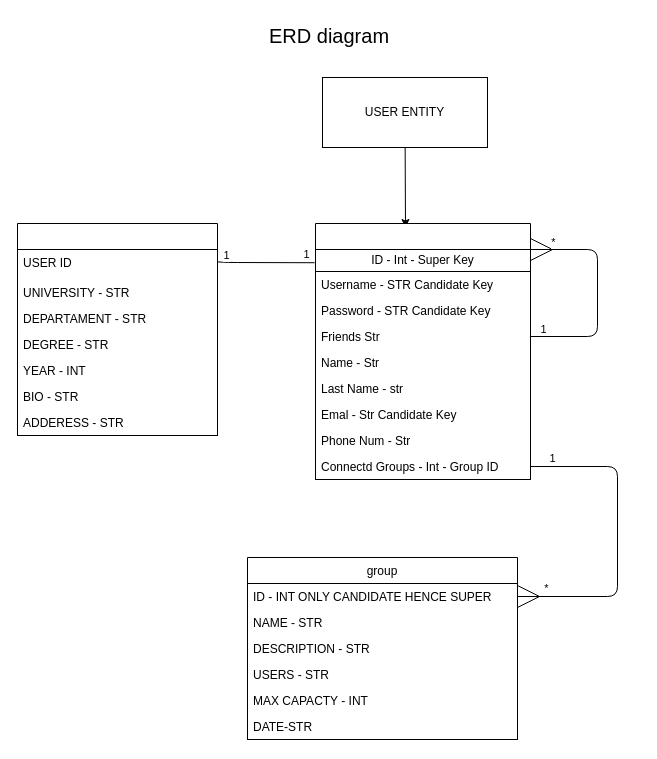
Some shapes in this 657 by 759 pixel diagram are drawn without their labels. Each missing label, with the box of its shape:
profile: (16, 222, 218, 436)
User Table: (314, 222, 530, 480)
